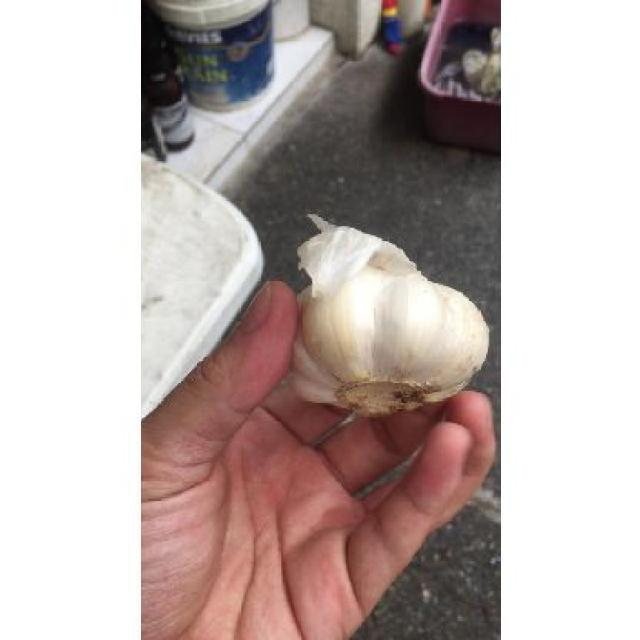Garlic: (269, 210, 500, 436)
